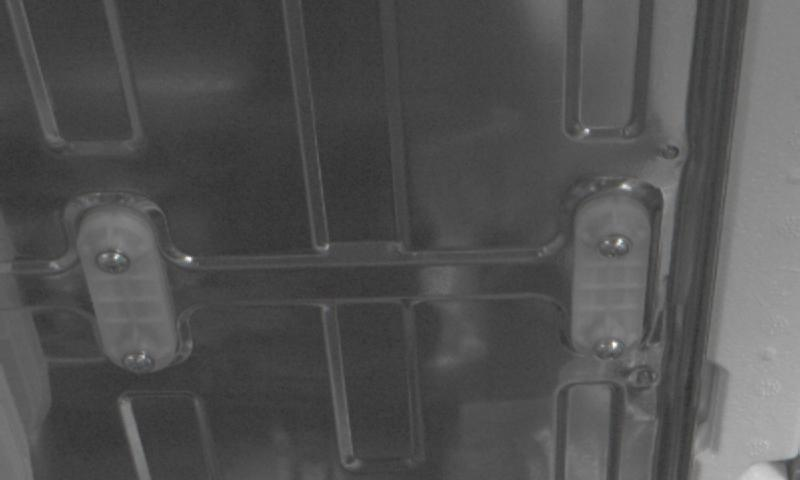vida-ok: (598, 232, 641, 277), (92, 243, 132, 288), (117, 343, 159, 383), (592, 332, 632, 370)
